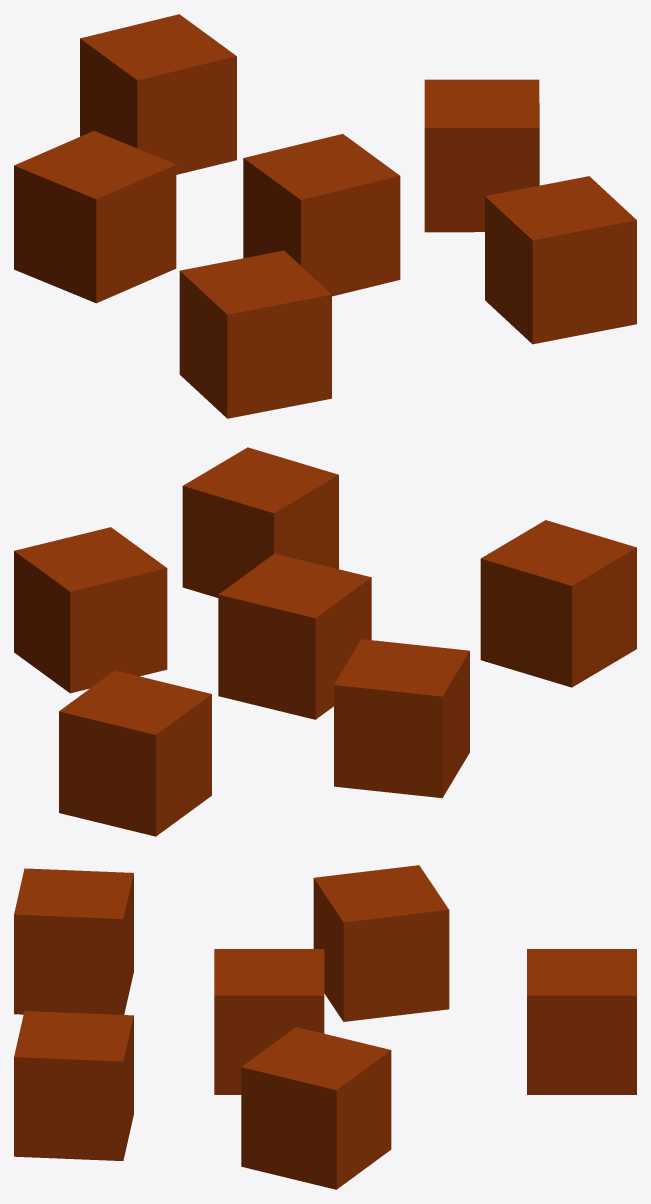
Rendered from cooked_meat_C-BSVk_Q6t.glb.
3 views of the same model, one above another, from view 1: azimuth 30°, elevation 25°; view 2: azimuth 150°, elevation 25°; view 3: azimuth 270°, elevation 25° (orthographic). The views are drawn at different scales.
Visible parts, largest first — view 1: Cube.002, Cube.003, Cube.004, Cube, Cube.001, Cube.005; view 2: Cube.003, Cube.001, Cube.005, Cube, Cube.002, Cube.004; view 3: Cube.005, Cube.002, Cube.004, Cube.003, Cube.001, Cube.
Boxes of the visible parts, x1,y1,x2,y2 form: Cube.002: (14,131,176,303); Cube.003: (179,250,331,418); Cube.004: (485,176,636,344); Cube: (243,134,400,296); Cube.001: (80,14,236,174); Cube.005: (424,79,539,232); Cube.003: (480,520,636,687); Cube.001: (59,670,211,836); Cube.005: (14,527,167,693); Cube: (218,553,371,719); Cube.002: (334,639,469,798); Cube.004: (182,447,338,597); Cube.005: (241,1027,391,1189); Cube.002: (313,865,449,1021); Cube.004: (14,1011,133,1160); Cube.003: (14,868,133,1014); Cube.001: (527,949,636,1094); Cube: (214,949,324,1094).
Bounding box in the file's own units: 0.108 × 0.0223 × 0.1263.
